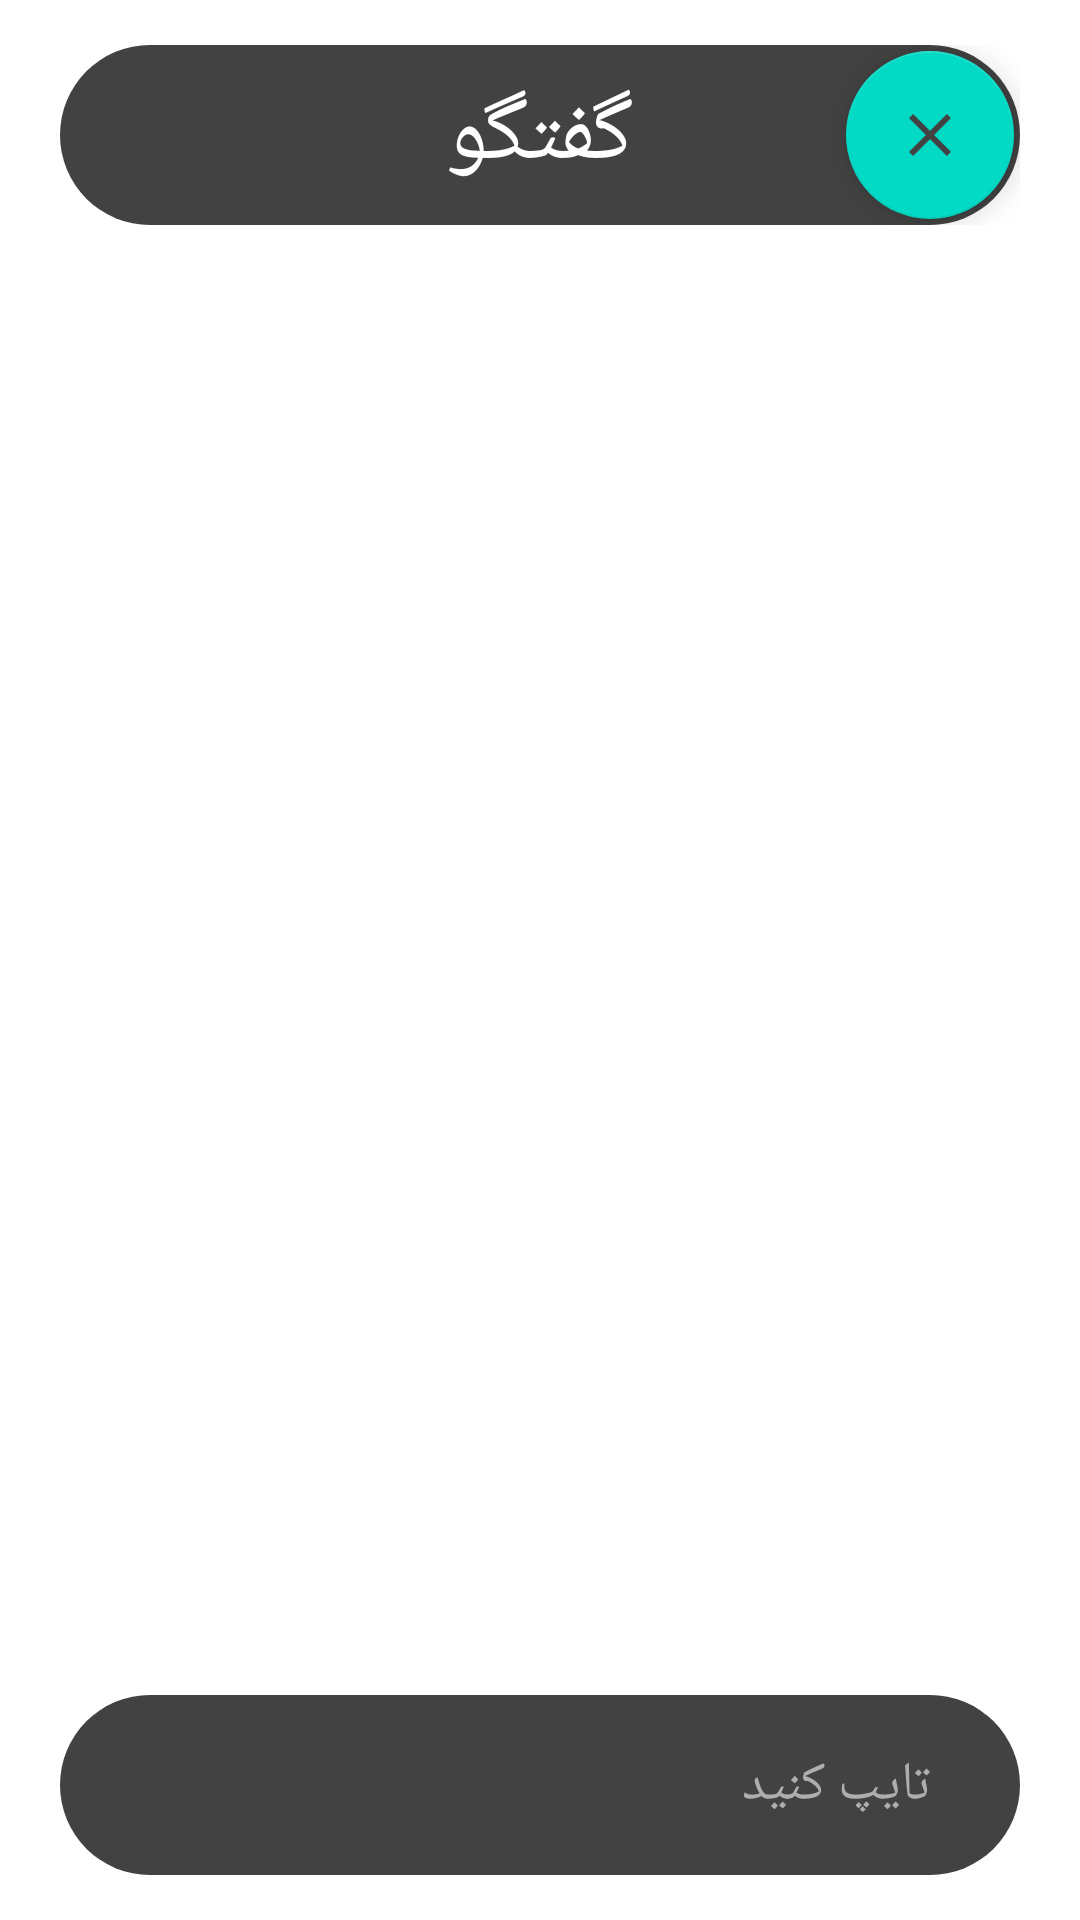

Icons on this 1080*1920 Android screen, each with the point to tap as point (x, y):
close: point (930, 135)
